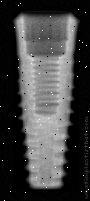Novodent: (13, 11, 86, 192)
